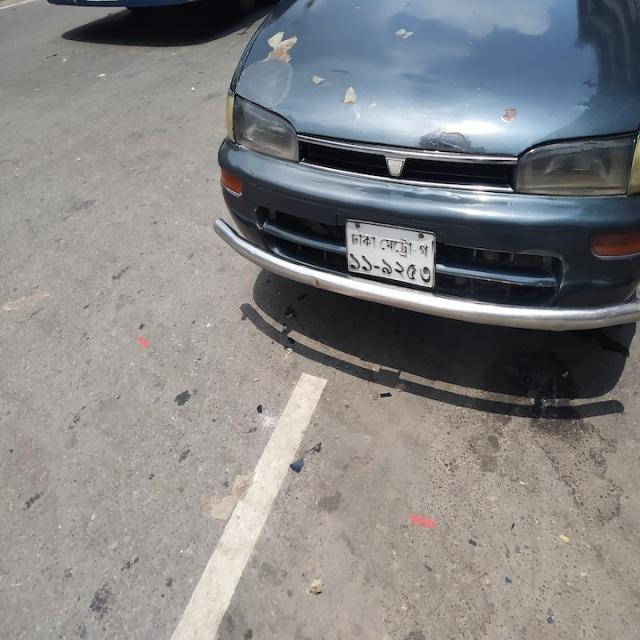numberplate: (343, 218, 436, 290)
